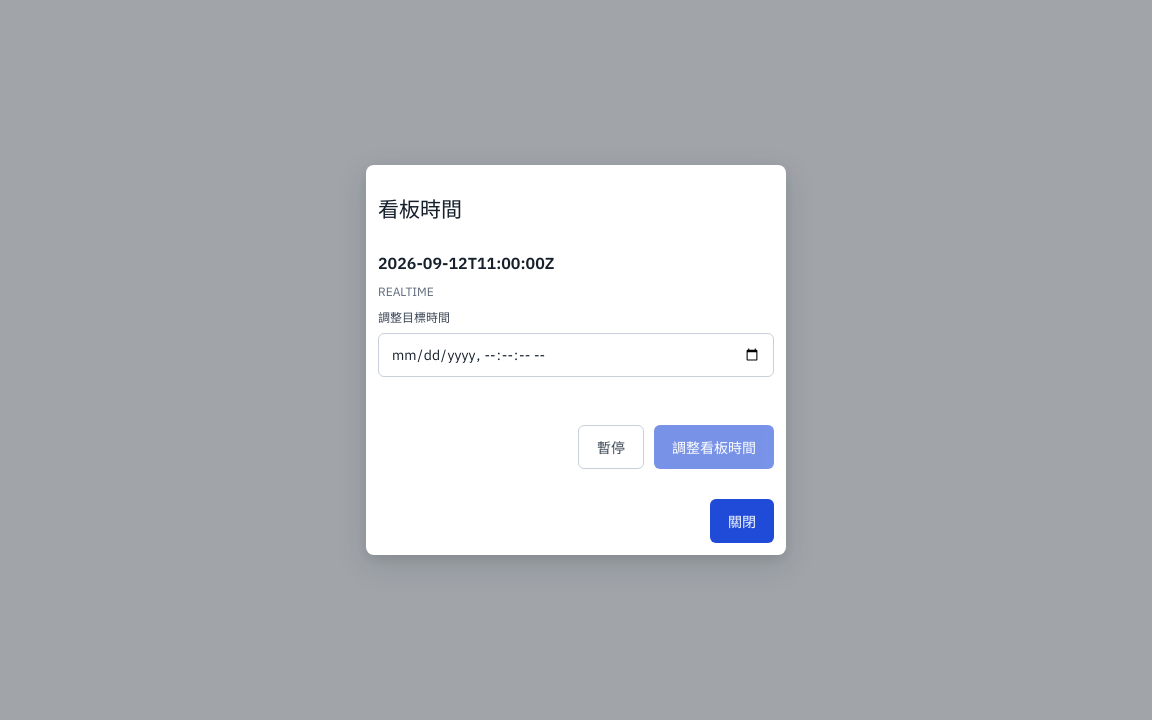
Scenario: s-board-clock-control › 暫停看板時間後，畫面顯示狀態為 PAUSED，觸發 uc-pause-resume-board-clock
Expected: the text "2026-09-12T11:00:00Z" is shown, [378,253,554,273]
Step 1. Click the button "暫停" → (611, 447), box [578,425,644,469]
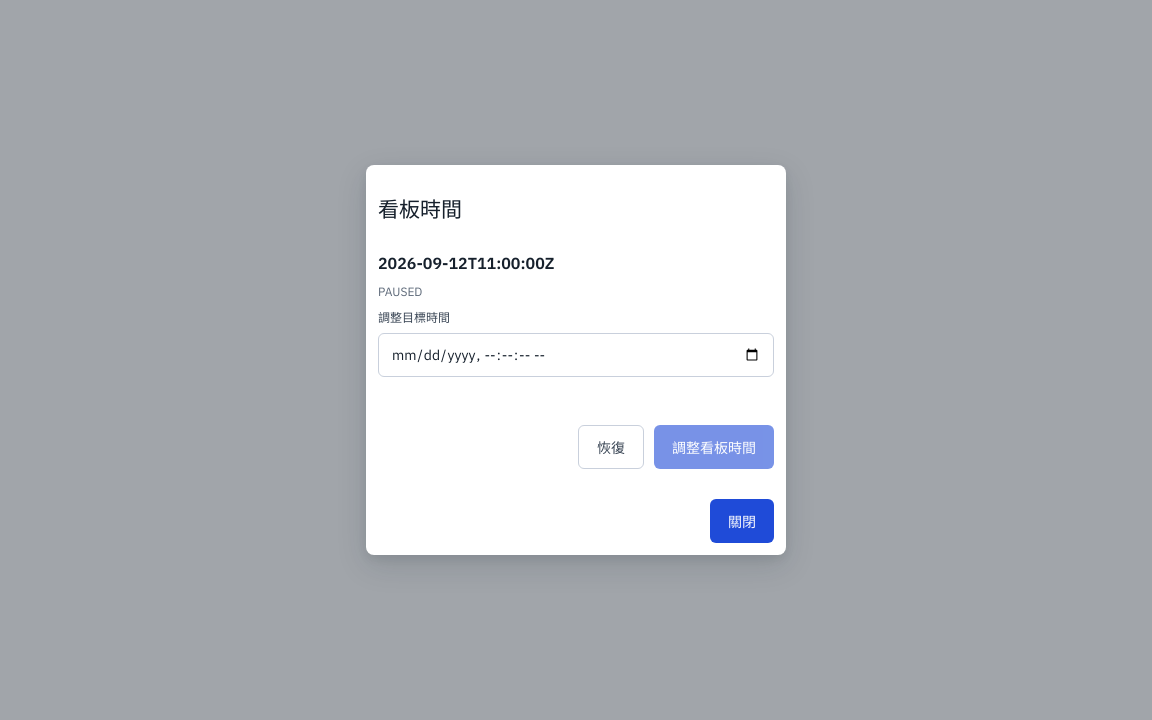
Expected: the text with test id "clock-control-status" reads "PAUSED", [378,284,422,299]
